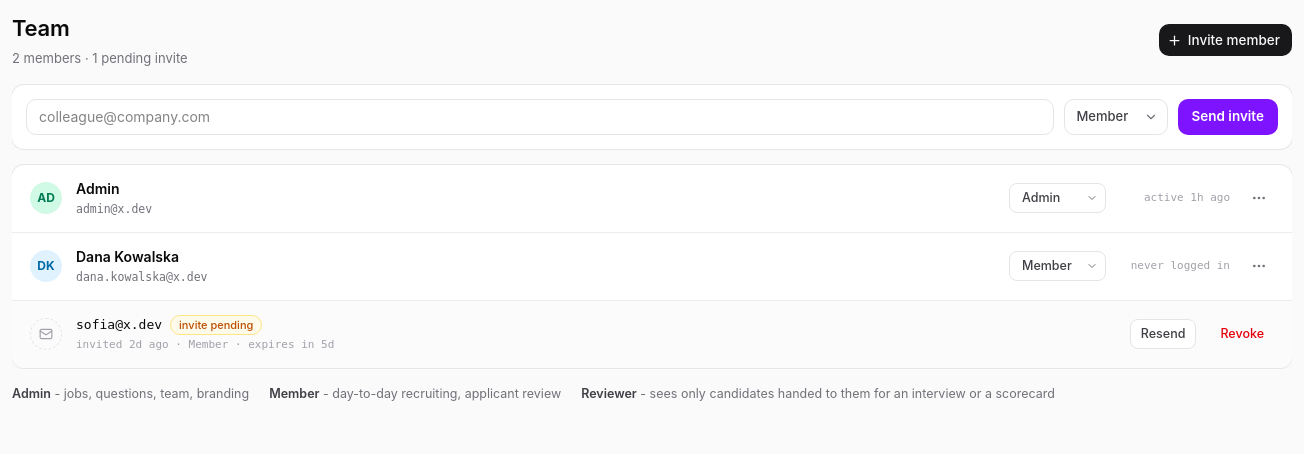
Test: TeamPage › surfaces API conflicts when sending an invite
Check: the text "Dana Kowalska" is shown, box 76,247 -> 179,267
Type "sofia@x.dev" into the field named "Invite email".
click(540, 116); type("sofia@x.dev")  # box 26,98 -> 1054,134
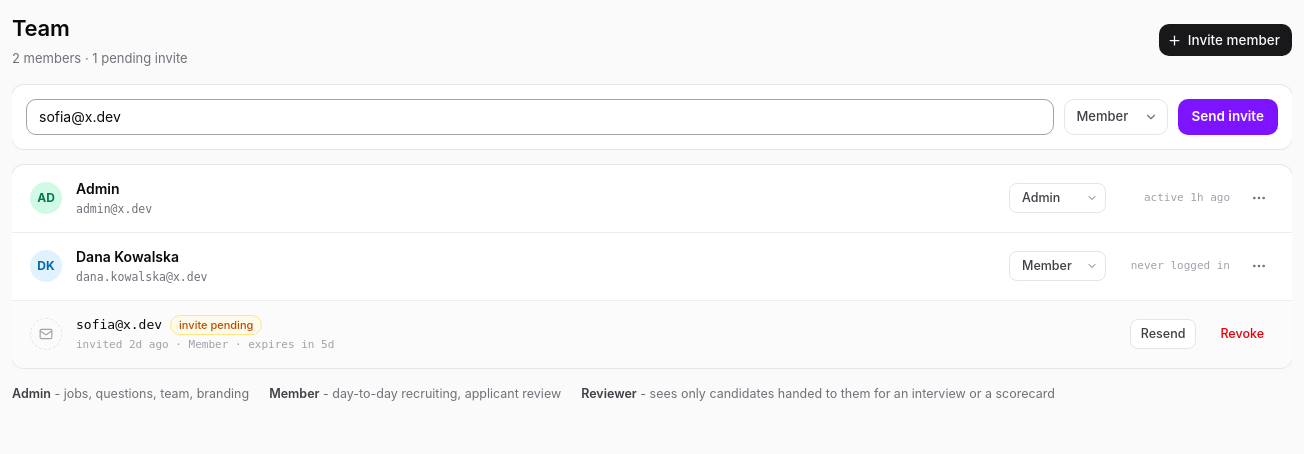
Click the button "Send invite".
click(1228, 116)  # box 1178,98 -> 1278,134
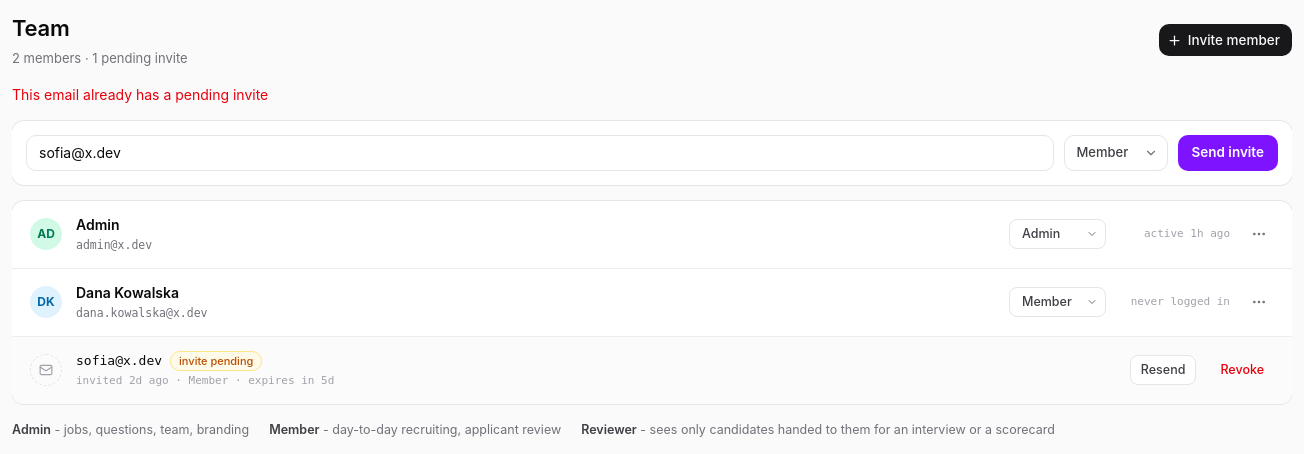
Check: the message reads "This email already has a pending invite", box 12,86 -> 268,102
